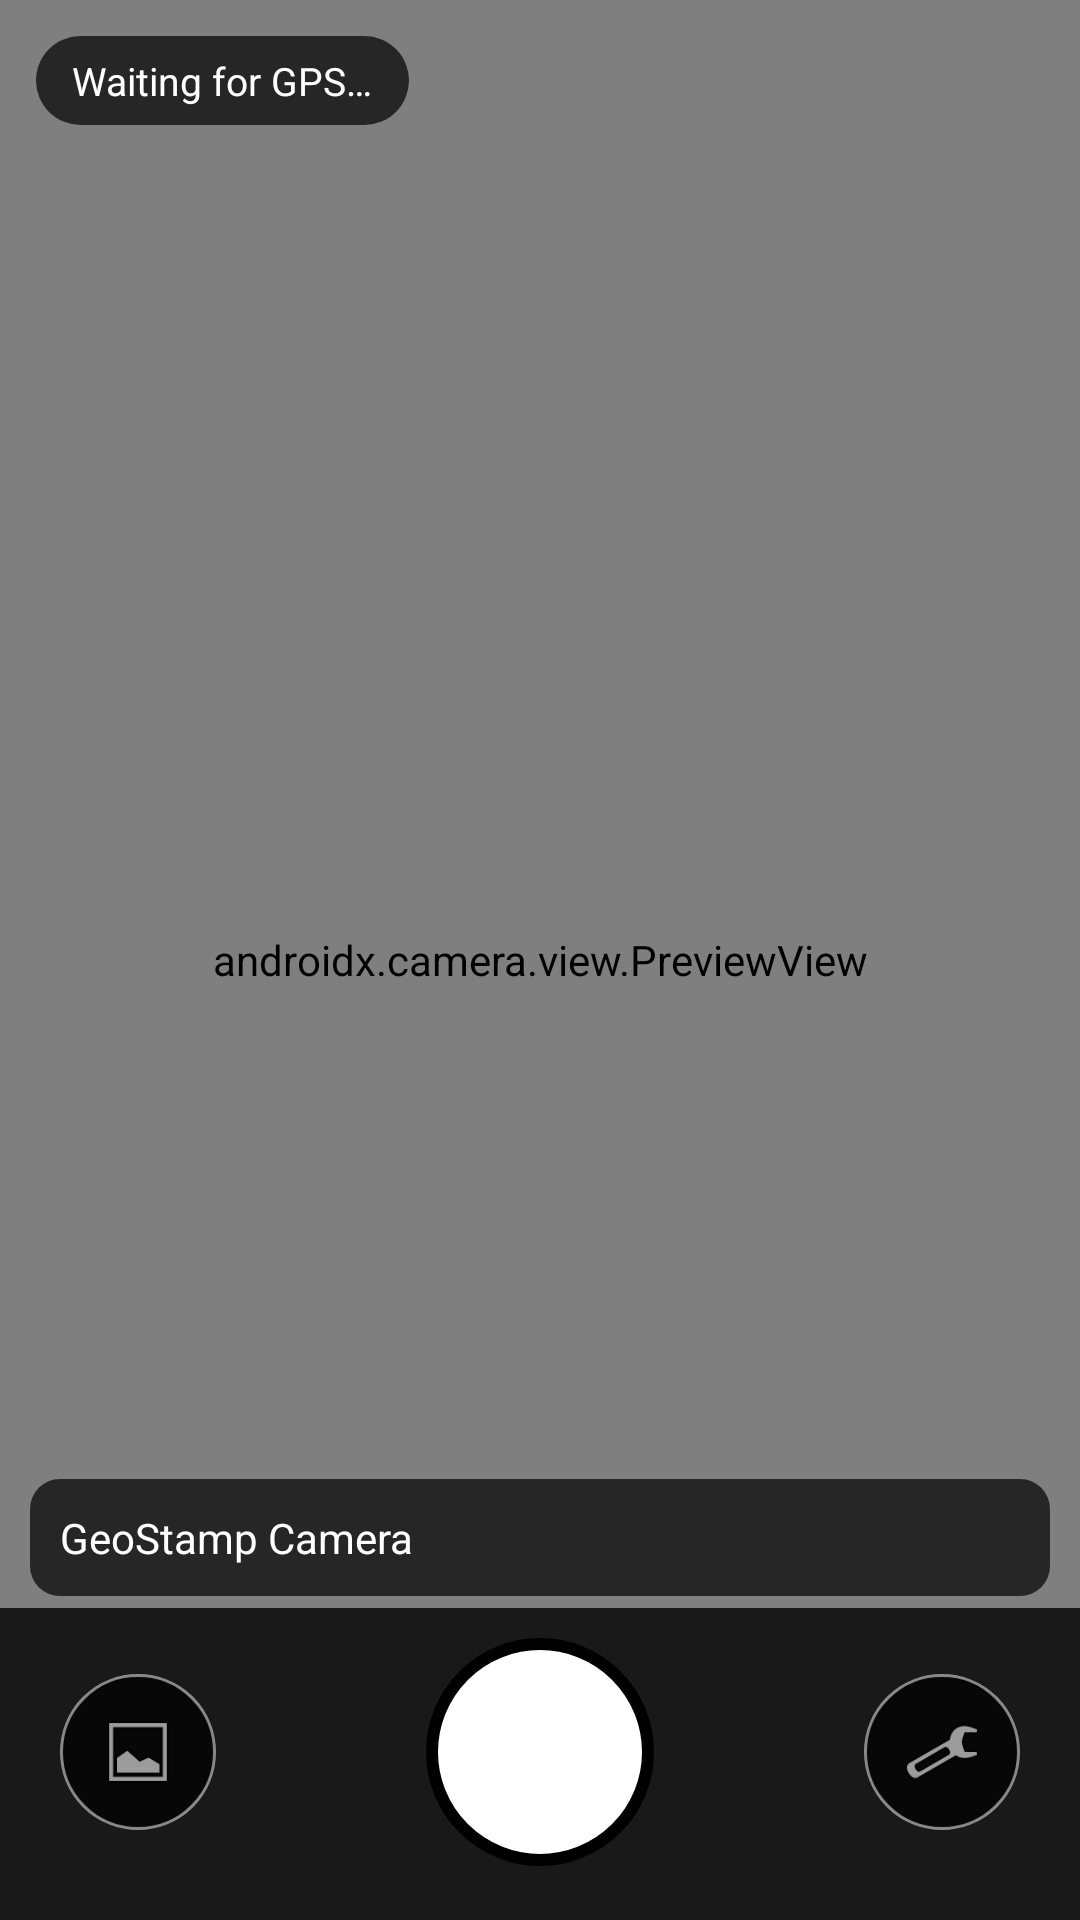

Icon bounding boxes for this 1080x1920 phone screenshot, format {"left": x1, "top": y1, "right": x2, "bottom": y2}:
Gallery: {"left": 60, "top": 1674, "right": 216, "bottom": 1830}
Settings: {"left": 864, "top": 1674, "right": 1020, "bottom": 1830}
